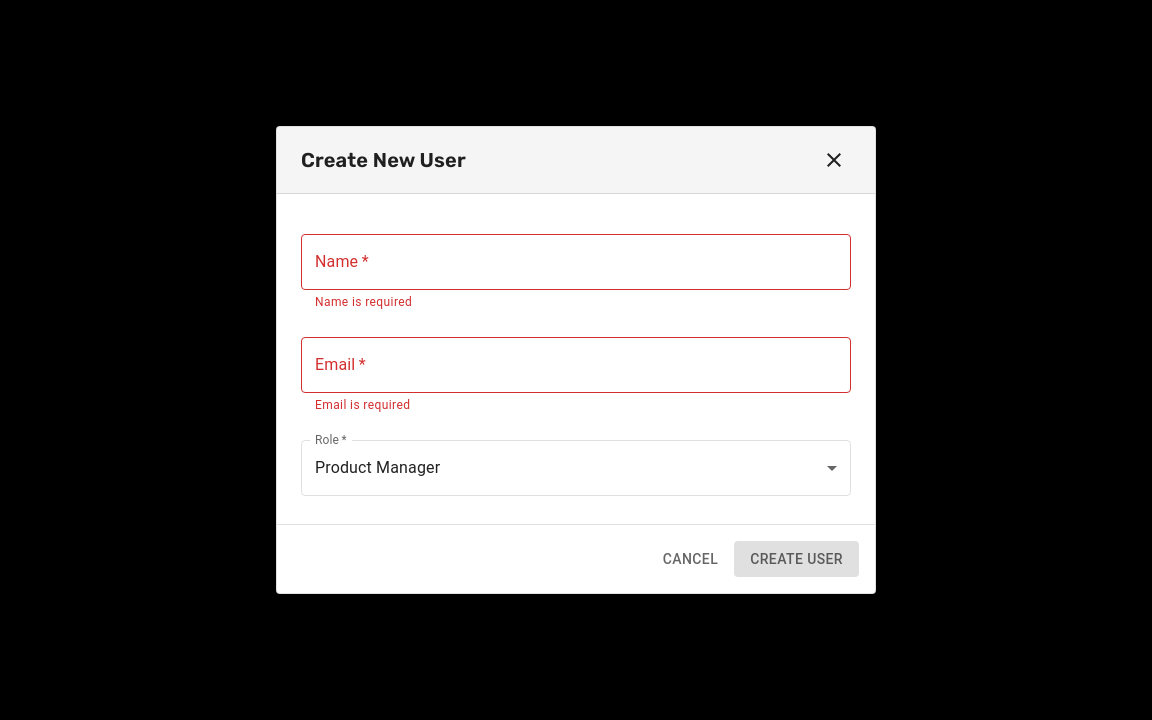
CreateUserDialog › should validate email format
In the field labelled "Name *": (576, 262) x1=301 y1=234 x2=851 y2=290, type "Test User"
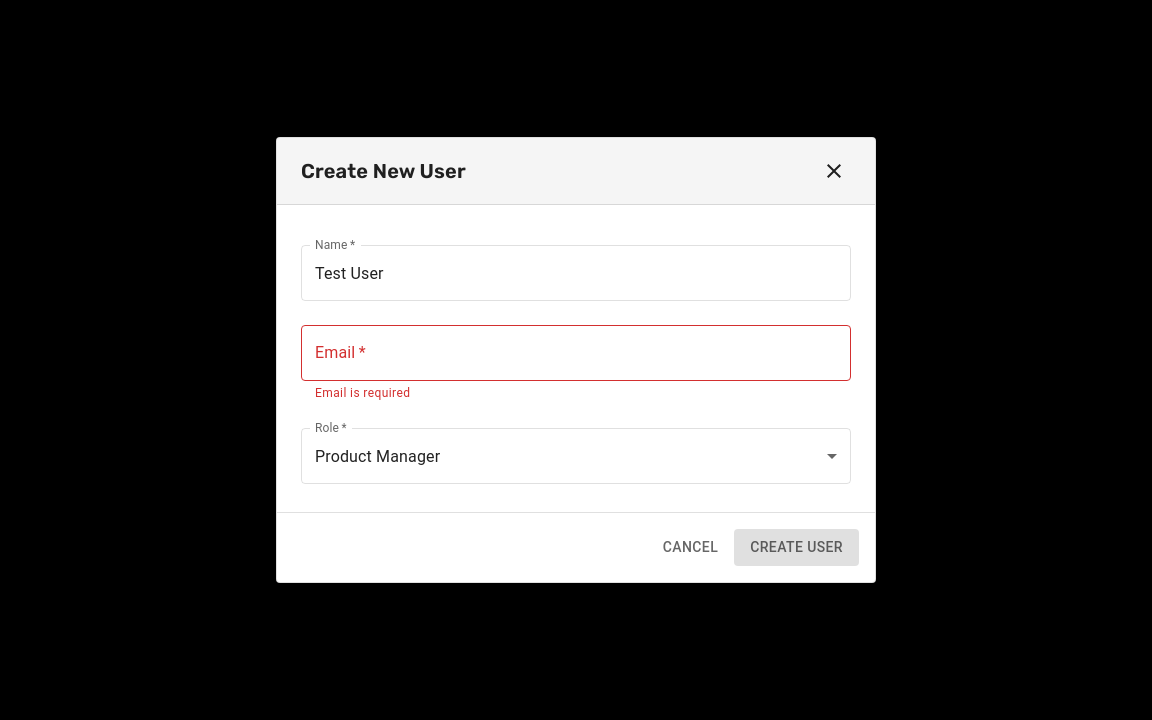
In the field labelled "Email *": (576, 353) x1=301 y1=325 x2=851 y2=381, type "invalid-email"
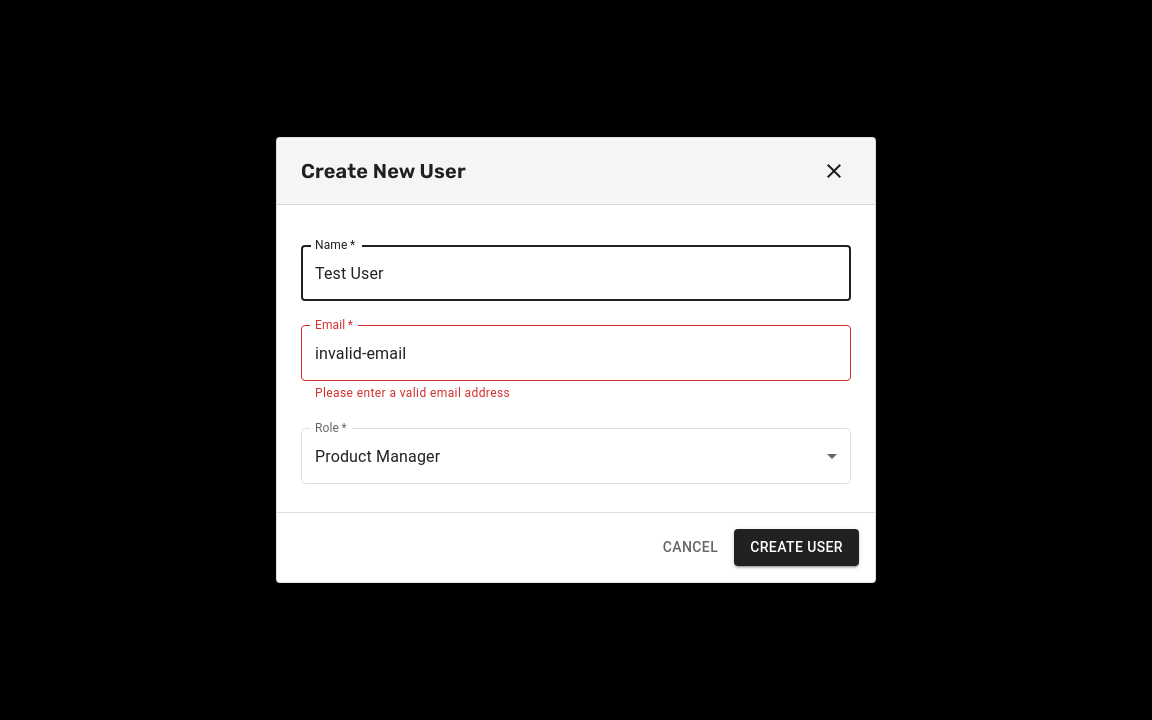
Now the text "Please enter a valid email address" is shown, box x1=315 y1=386 x2=510 y2=400
